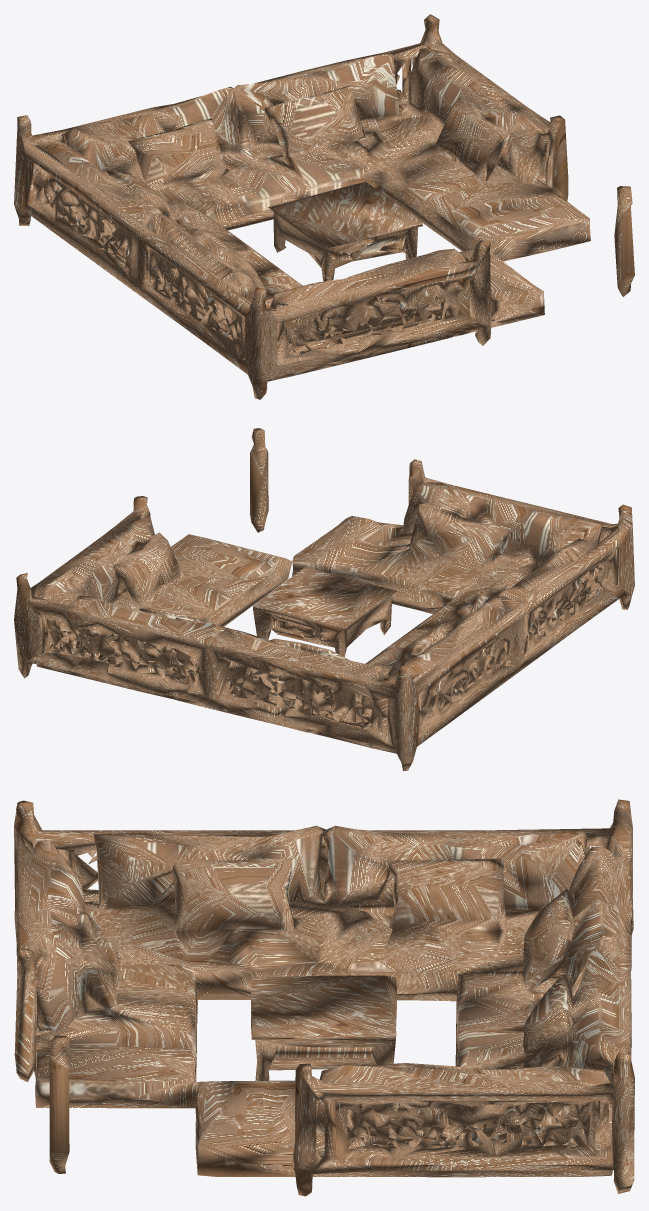
File: majlisset_lod1.glb
3 views of the same model, one above another, from view 1: azimuth 30°, elevation 25°; view 2: azimuth 150°, elevation 25°; view 3: azimuth 270°, elevation 25° (orthographic). The views are drawn at different scales.
Size of the model in its own units: 1.9 by 0.4757 by 1.9.
1 material, 1 textured.
